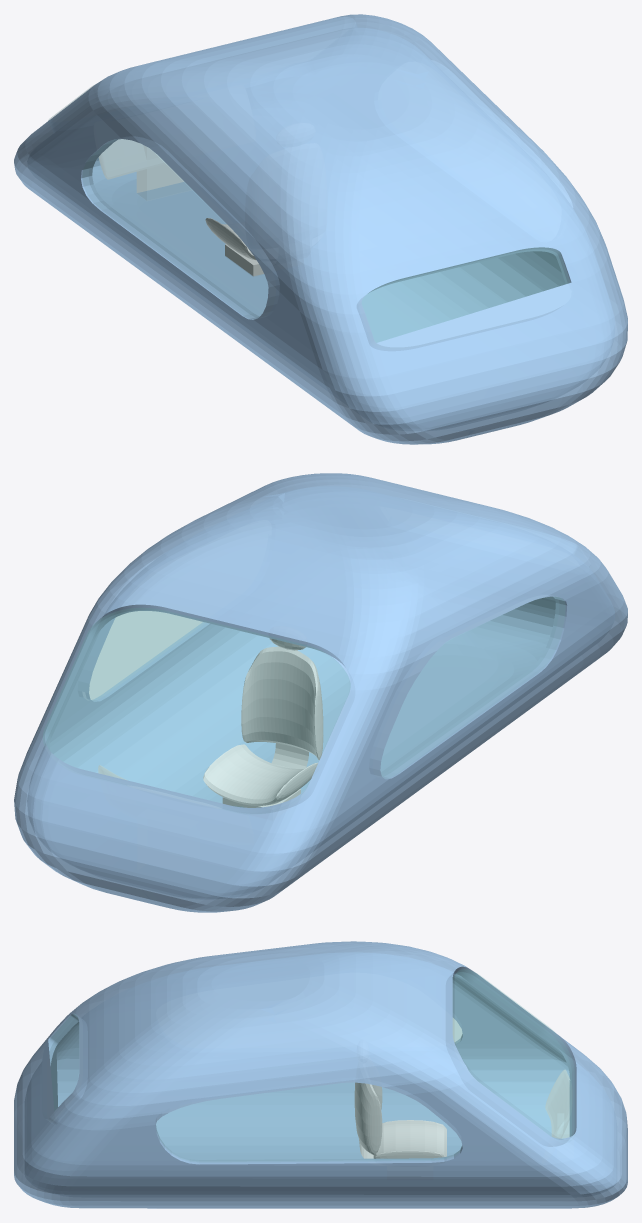
File: капсула3.fbx
The picture shows the model from 3 angles, top to bottom: view 1: azimuth 30°, elevation 25°; view 2: azimuth 150°, elevation 25°; view 3: azimuth 270°, elevation 25°; orthographic projection. The views are drawn at different scales.
Parts seen in each view (by area): view 1: Circle, Cube.004, Cube.007, Circle.003, Cube.002, Circle.001; view 2: Circle, Cube.006, Cube.004, Circle.002, Cube.005, Circle.001, Plane; view 3: Circle, Cube.005, Cube.006, Circle.001, Cube.007, Circle.002, Circle.003.
Boxes of the visible parts, box(x1,y1,x2,y2) form: Circle: box(14, 14, 627, 444); Cube.004: box(82, 139, 268, 318); Cube.007: box(362, 247, 569, 342); Circle.003: box(99, 139, 165, 178); Cube.002: box(137, 164, 183, 192); Circle.001: box(205, 218, 256, 260); Circle: box(14, 473, 627, 912); Cube.006: box(43, 608, 350, 807); Cube.004: box(380, 597, 565, 778); Circle.002: box(241, 646, 323, 760); Cube.005: box(89, 611, 202, 699); Circle.001: box(203, 744, 317, 805); Plane: box(271, 743, 308, 768); Circle: box(14, 941, 627, 1208); Cube.005: box(156, 1082, 461, 1161); Cube.006: box(453, 969, 573, 1139); Circle.001: box(373, 1120, 446, 1158); Cube.007: box(49, 1014, 78, 1110); Circle.002: box(354, 1082, 382, 1154); Circle.003: box(546, 1070, 569, 1137).
Bounding box in the file's own units: 400 × 315 × 854.
